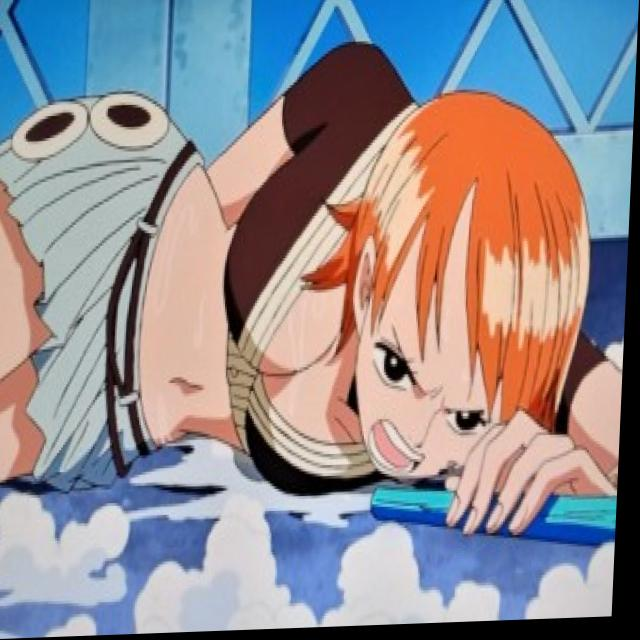Nami: (317, 69, 606, 512)
